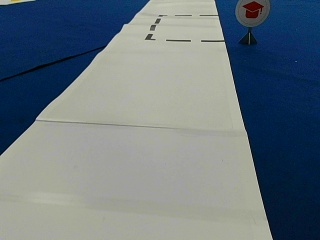school: (235, 1, 272, 27)
